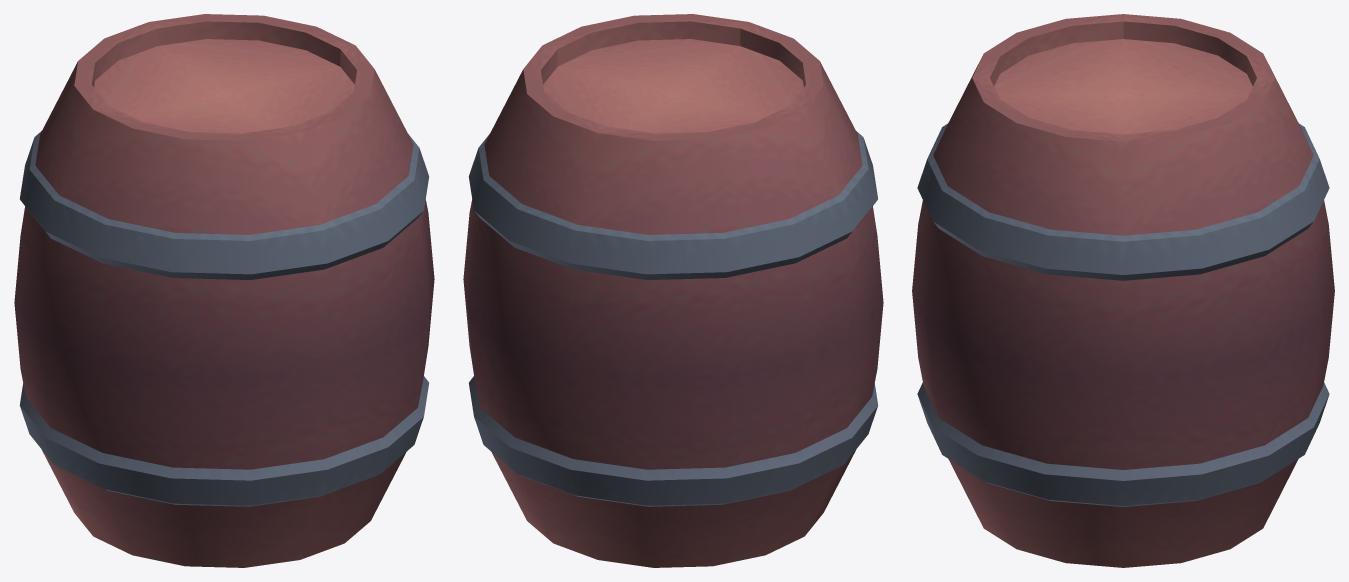
File: Barrel.fbx
3 renders of one model, left to right at view 1: azimuth 30°, elevation 25°; view 2: azimuth 150°, elevation 25°; view 3: azimuth 270°, elevation 25°, orthographic.
Visible parts, largest first — view 1: Barrel; view 2: Barrel; view 3: Barrel.
Boxes of the visible parts, x1=… form: Barrel: x1=14, y1=14, x2=434, y2=567; Barrel: x1=463, y1=14, x2=883, y2=567; Barrel: x1=912, y1=14, x2=1334, y2=567.
Size of the model in its own units: 2.22 by 2.47 by 2.22.
